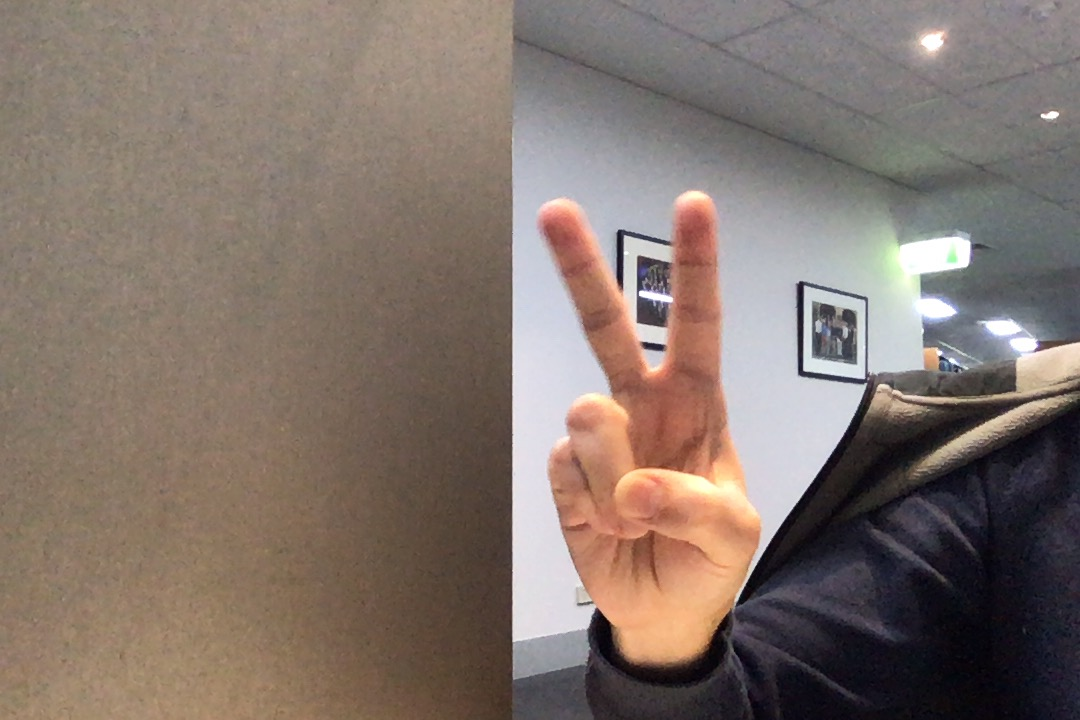peacesign: (512, 183, 785, 636)
